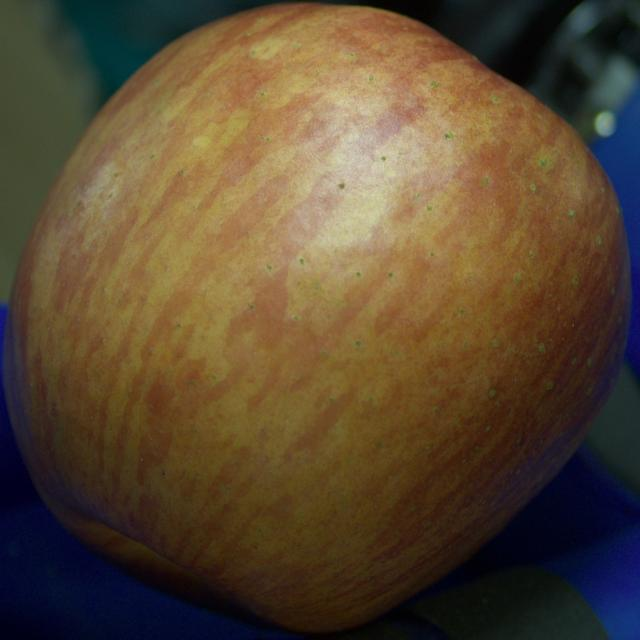apple: (2, 4, 631, 632)
